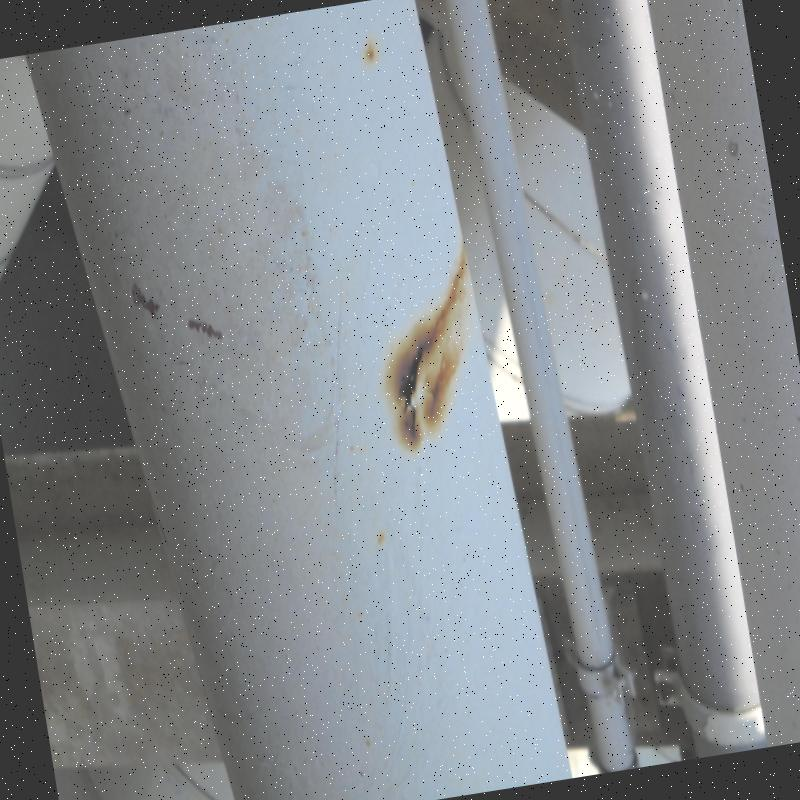corrosion: (382, 330, 455, 424), (415, 399, 429, 418)
